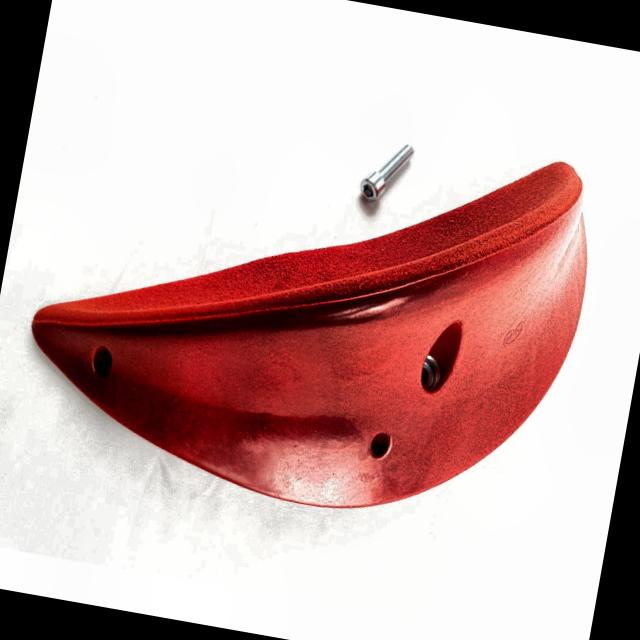Hold: (6, 72, 607, 548), (11, 147, 610, 527)
